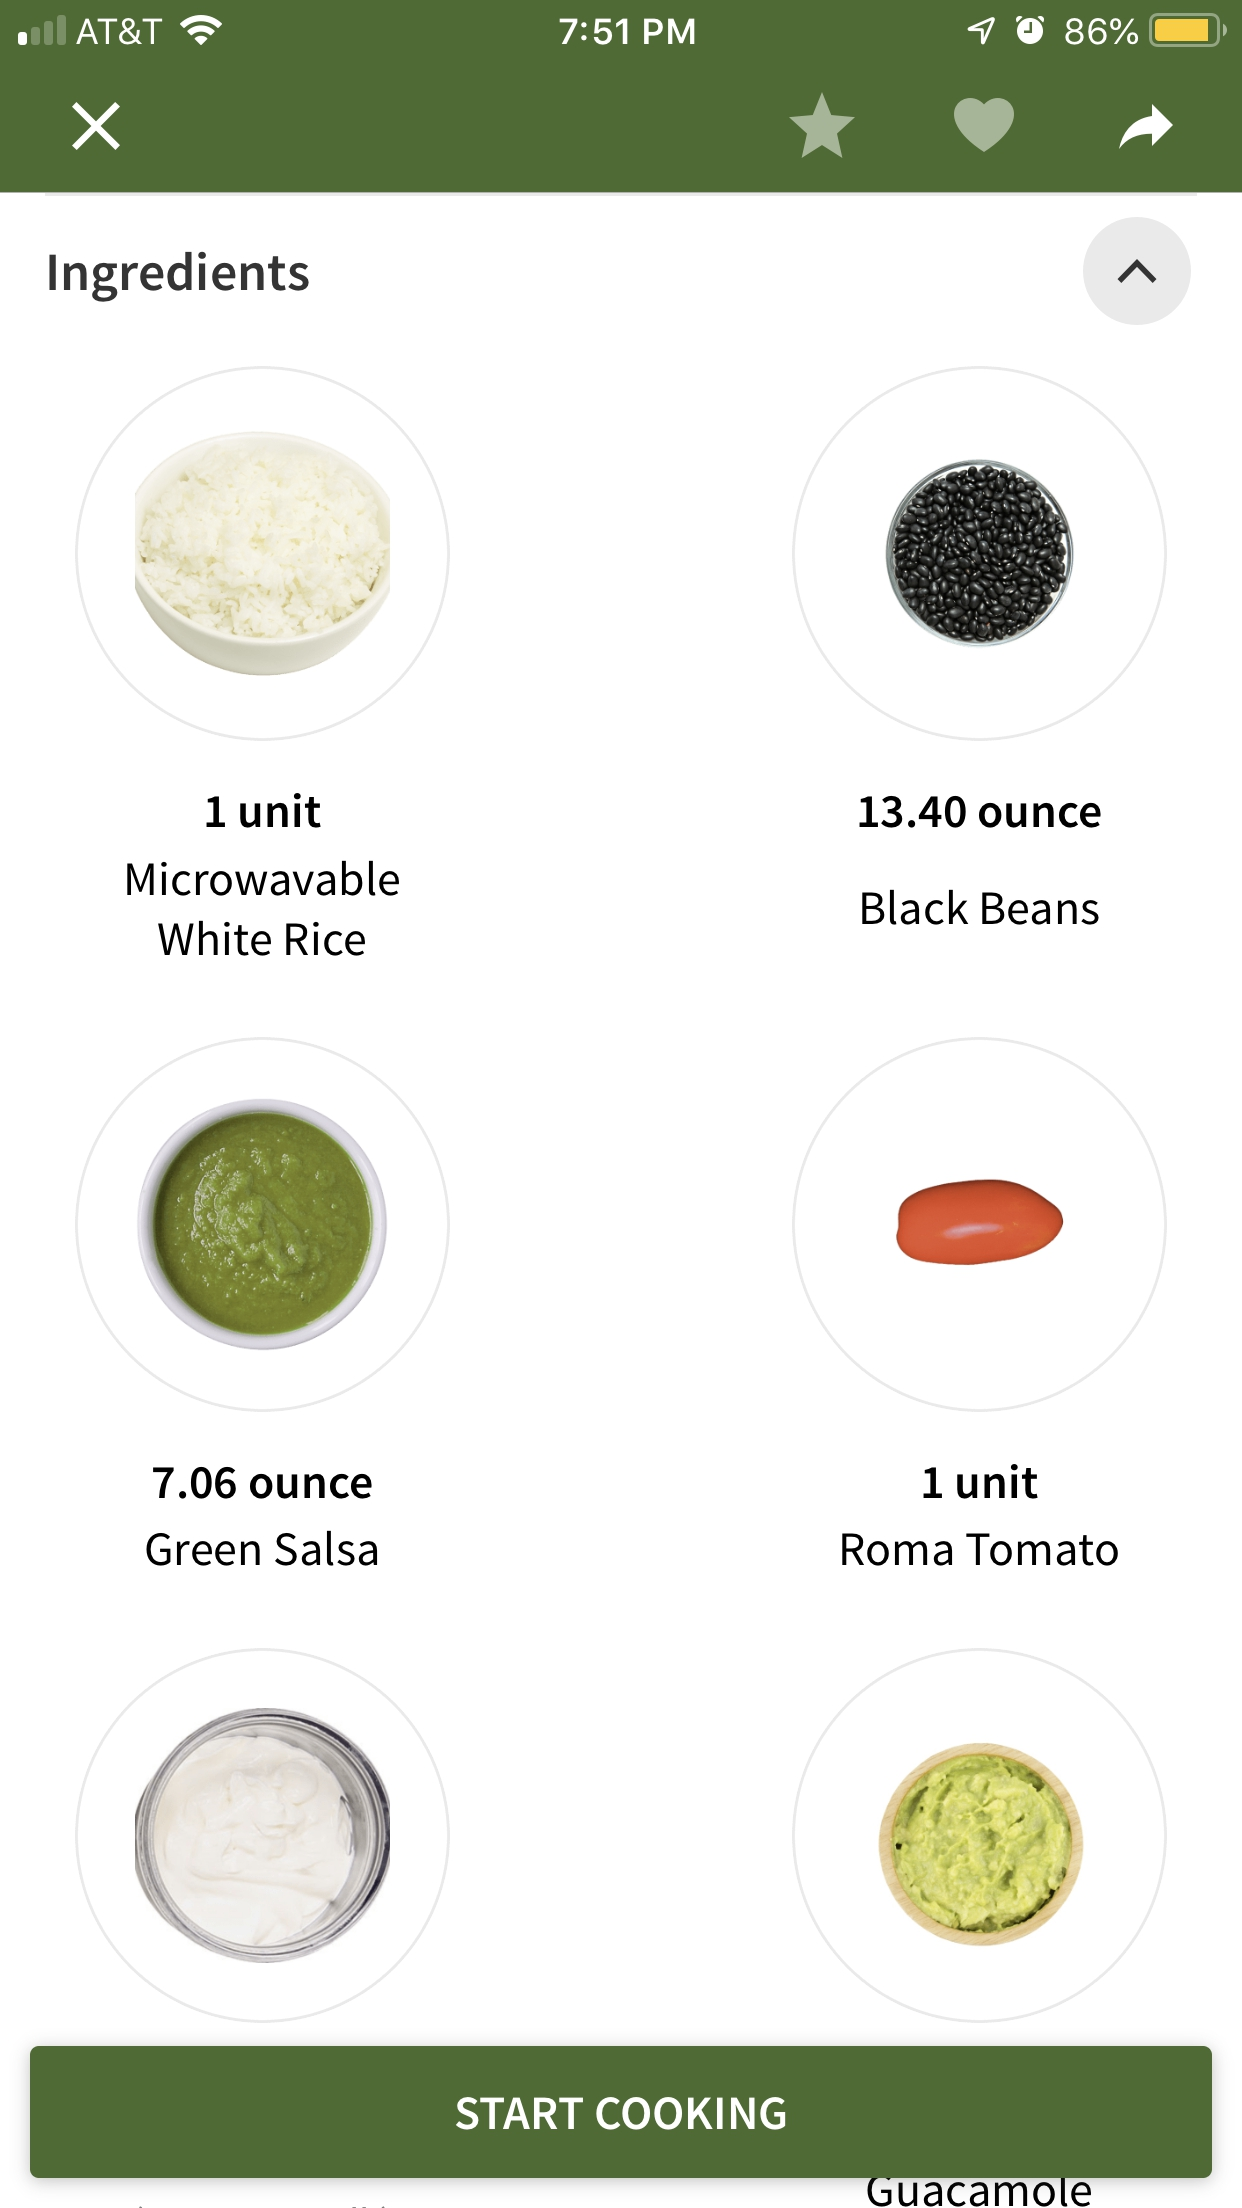Icon: (1083, 217, 1192, 328), (789, 93, 855, 161), (952, 99, 1015, 155), (1118, 105, 1174, 152), (71, 102, 121, 152)
Image: (74, 1034, 455, 1413), (74, 1645, 452, 2025), (790, 365, 1168, 743), (74, 365, 452, 743), (792, 1036, 1168, 1413), (792, 1648, 1168, 2025)
Text: (127, 860, 400, 955), (49, 252, 309, 303), (842, 1532, 1119, 1567), (861, 889, 1099, 927), (858, 795, 1102, 830), (147, 1530, 379, 1567), (153, 1466, 375, 1500), (867, 2178, 1092, 2208), (206, 792, 321, 830), (924, 1463, 1039, 1500)
TextButton: (30, 2046, 1212, 2178)
UpperTaskBar: (2, 2, 1242, 49)
